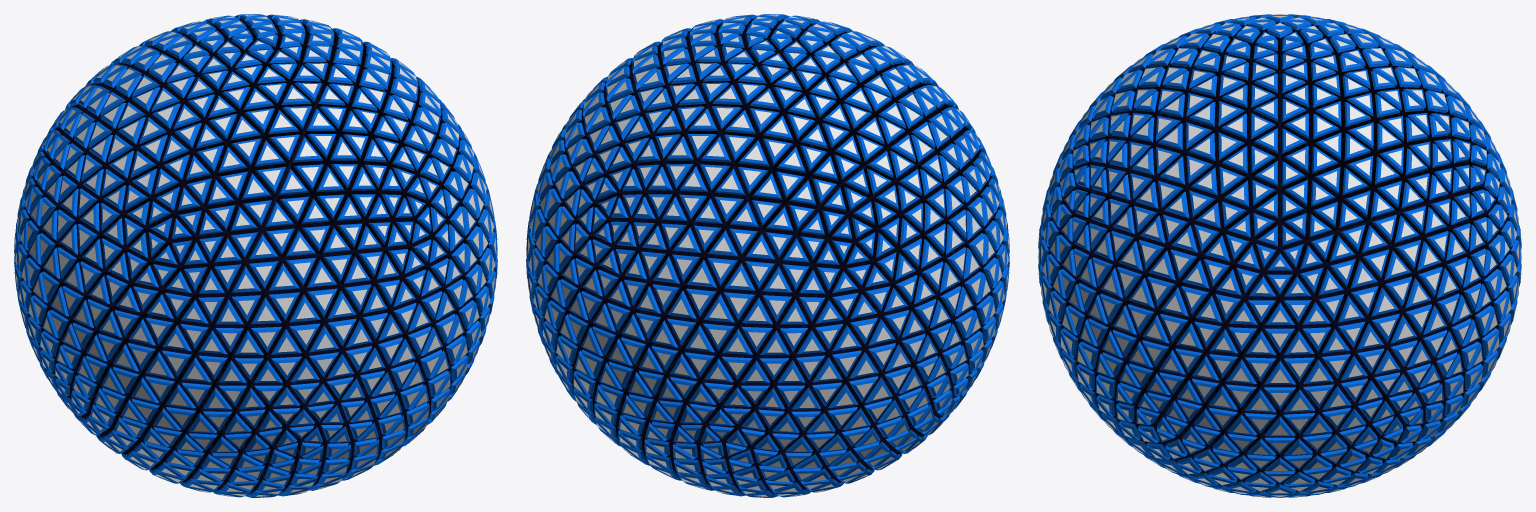
The model's file is bullet2.fbx.
3 views of the same model, side by side, from view 1: azimuth 30°, elevation 25°; view 2: azimuth 150°, elevation 25°; view 3: azimuth 270°, elevation 25° (orthographic).
Visible parts, largest first — view 1: Icosphere; view 2: Icosphere; view 3: Icosphere.
Part boxes in pixels (box(x1,y1,x2,y2)): Icosphere: box(14, 14, 497, 497); Icosphere: box(526, 14, 1009, 497); Icosphere: box(1038, 14, 1521, 497).
Bounding box in the file's own units: 239 × 239 × 239.
